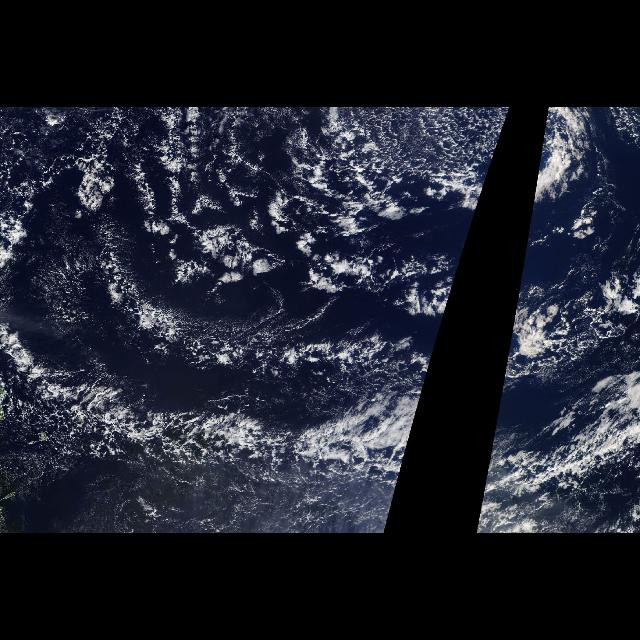Fish: (1, 286, 450, 516), (478, 330, 640, 516)
Flower: (161, 205, 409, 315)
Gravel: (298, 108, 512, 210), (529, 107, 581, 205)
